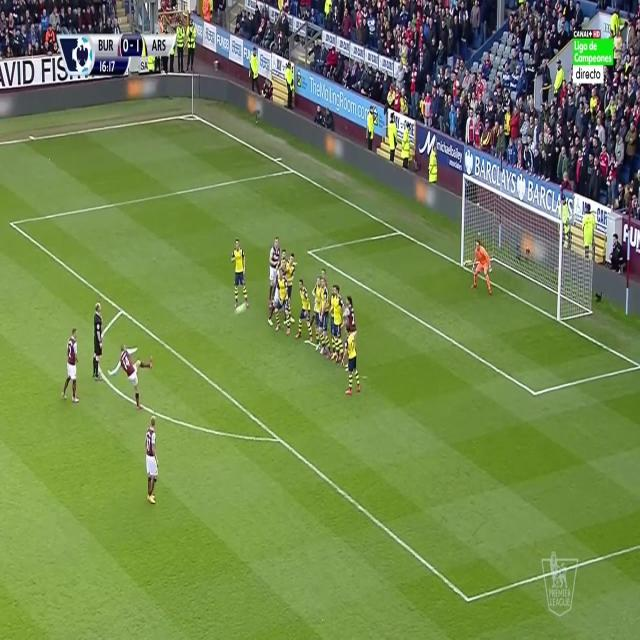Ball: (234, 299, 247, 319)
Goalkeeper: (470, 237, 495, 298)
Player: (106, 342, 154, 412), (58, 324, 81, 404), (144, 414, 161, 506), (344, 325, 362, 400), (230, 237, 248, 308), (296, 278, 313, 347), (274, 268, 290, 337), (319, 277, 330, 363), (333, 284, 343, 364), (312, 273, 322, 352), (270, 236, 280, 292), (342, 294, 357, 328)
Referee: (90, 302, 106, 381)
